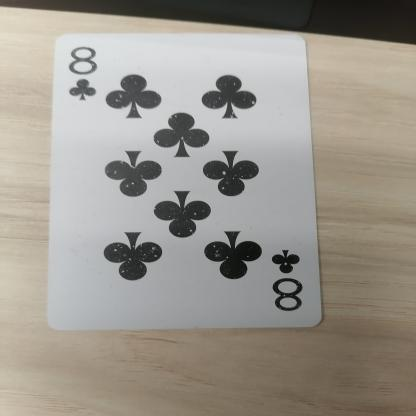8C: (60, 46, 113, 107), (264, 249, 309, 318)
